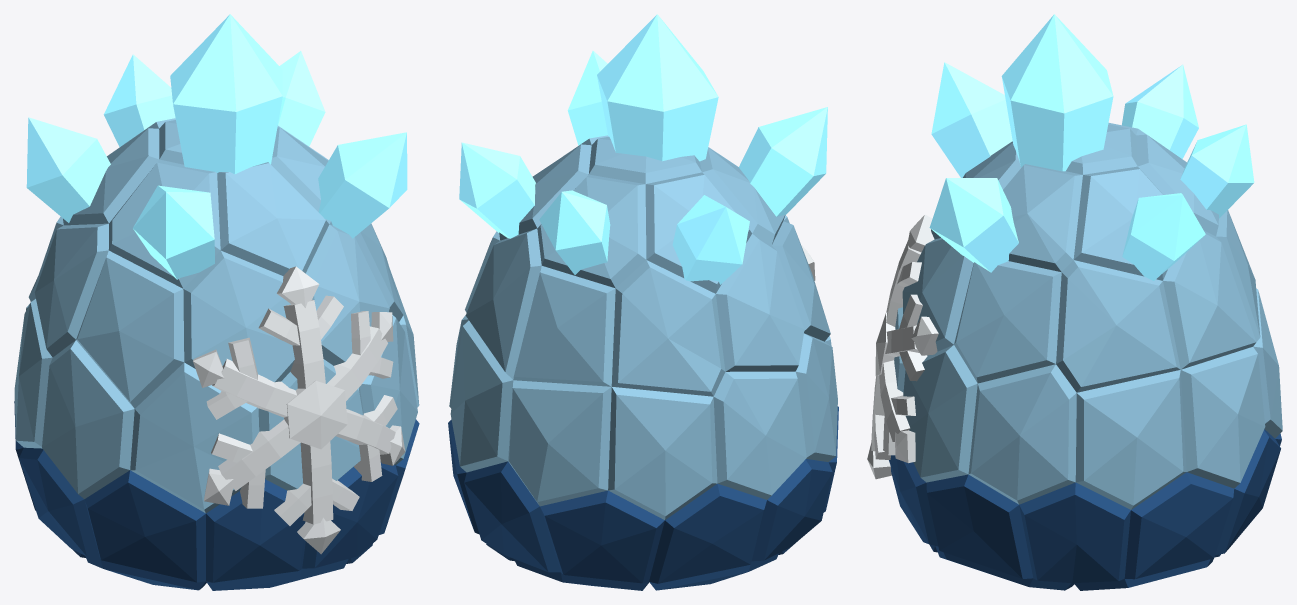
File: frost_egg.glb
3 views of the same model, side by side, from view 1: azimuth 30°, elevation 25°; view 2: azimuth 150°, elevation 25°; view 3: azimuth 270°, elevation 25° (orthographic). The views are drawn at different scales.
Parts seen in each view (by area): view 1: egg; view 2: egg; view 3: egg.
Part boxes in pixels (x1=…): egg: x1=14, y1=14, x2=419, y2=590; egg: x1=448, y1=14, x2=838, y2=590; egg: x1=867, y1=14, x2=1282, y2=590.
Size of the model in its own units: 1.72 by 2.59 by 1.79.
